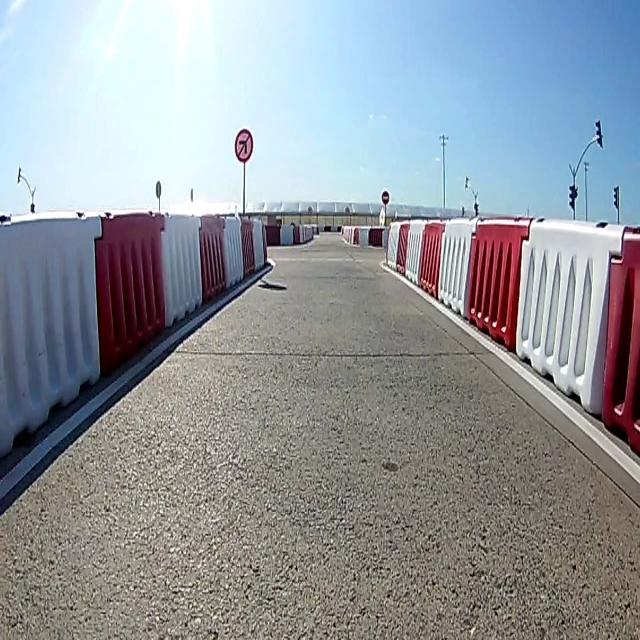girisyok: (381, 190, 389, 203)
soladonulmez: (235, 130, 254, 162)
